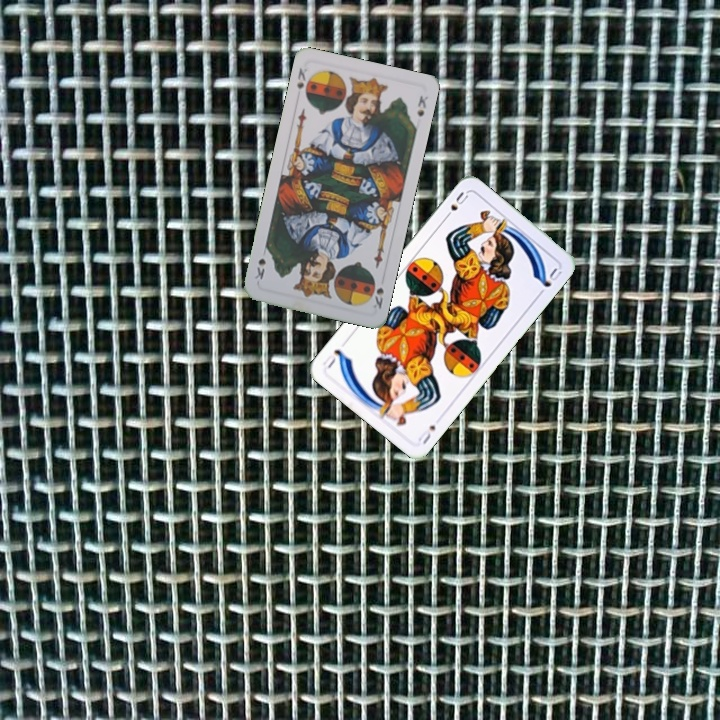SK: (369, 283, 387, 311), (293, 64, 310, 93)
SU: (440, 188, 471, 223), (416, 421, 438, 447)
